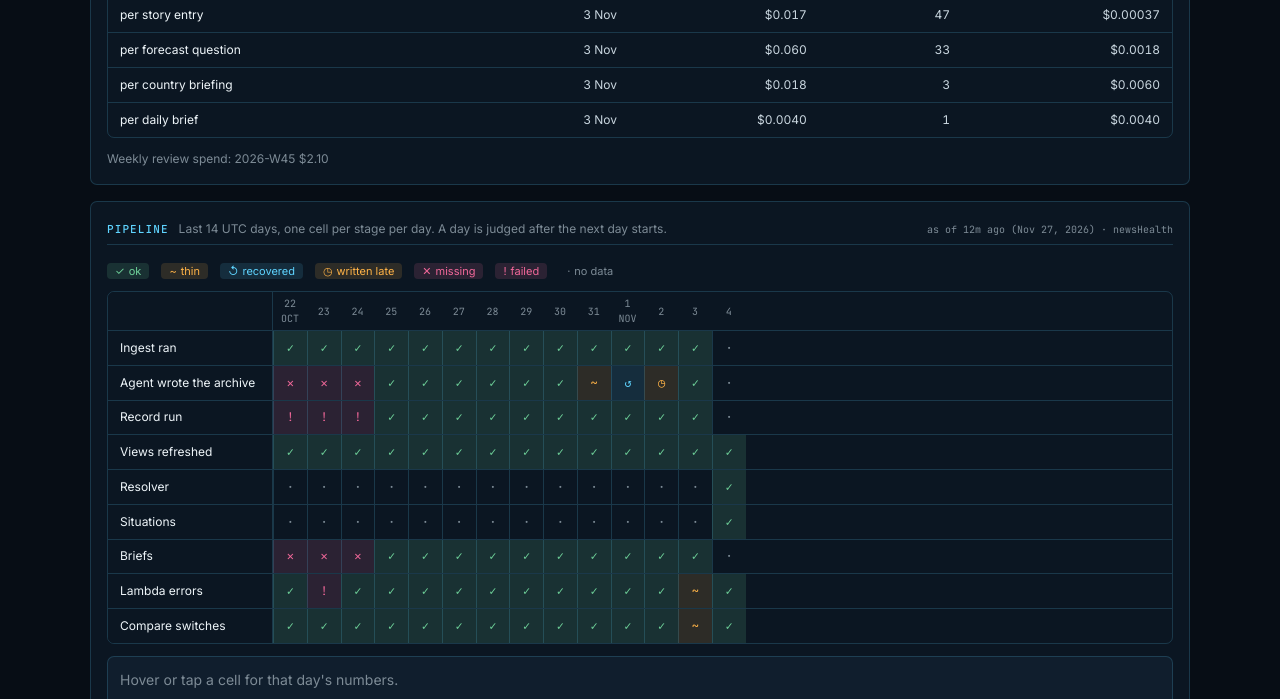
it: OpsPage pipeline panel › hover or tap puts the day's numbers, source and time in the detail card
(page scrolled)
expect the text "Hover or tap a cell for that day's numbers." is shown: met, box [120,671,398,688]
Step 1. Click the button named "Agent wrote the archive, 31 Oct: thin" → (594, 383), box [577,366,611,400]
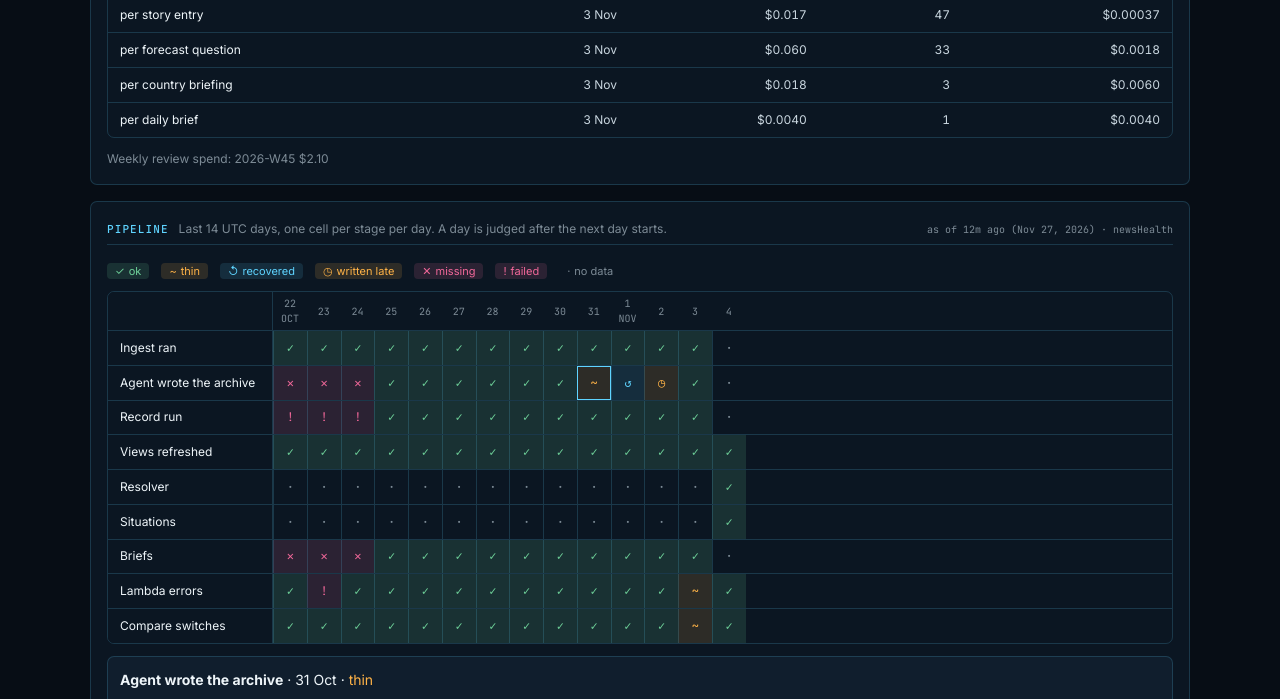
expect the text "thin" is shown: met, box [349,671,373,688]
Step 2. Hover over the button named "Record run, 22 Oct: failed" → (290, 417), box [273,400,307,434]
(page scrolled)
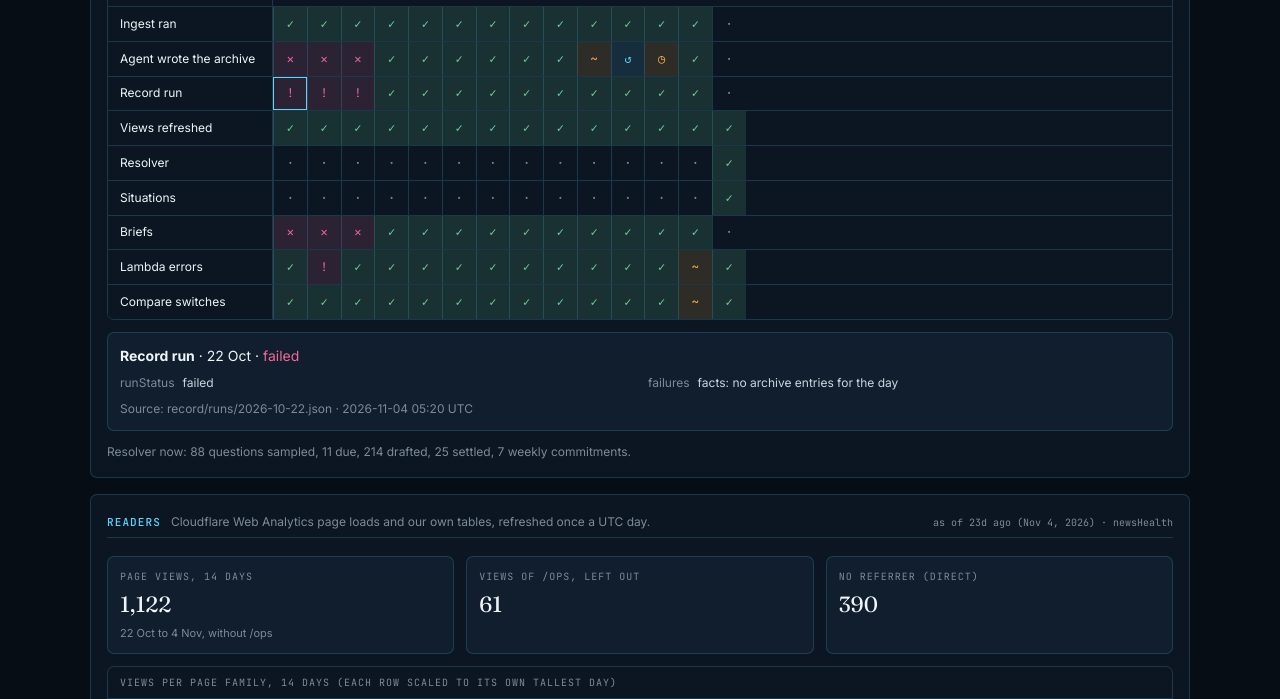
expect the text "facts: no archive entries for the day" is shown: met, box [698,374,898,392]
